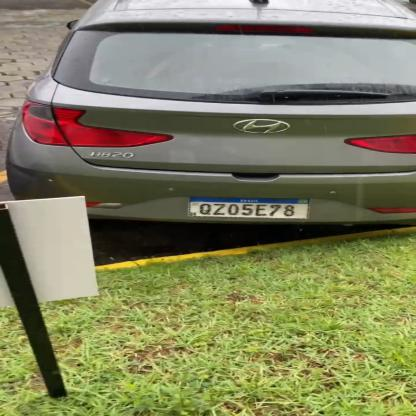Plate: (186, 190, 317, 227)
